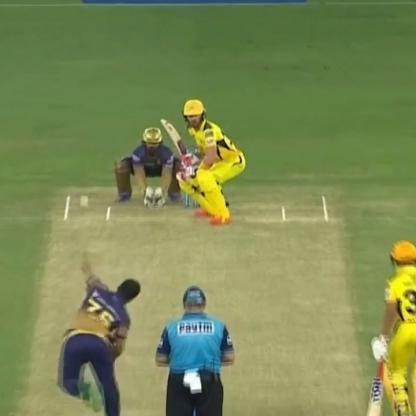ball: (75, 187, 98, 205), (74, 200, 95, 210)
bat: (155, 112, 195, 180), (359, 342, 389, 416)
pitch: (18, 186, 370, 416)
